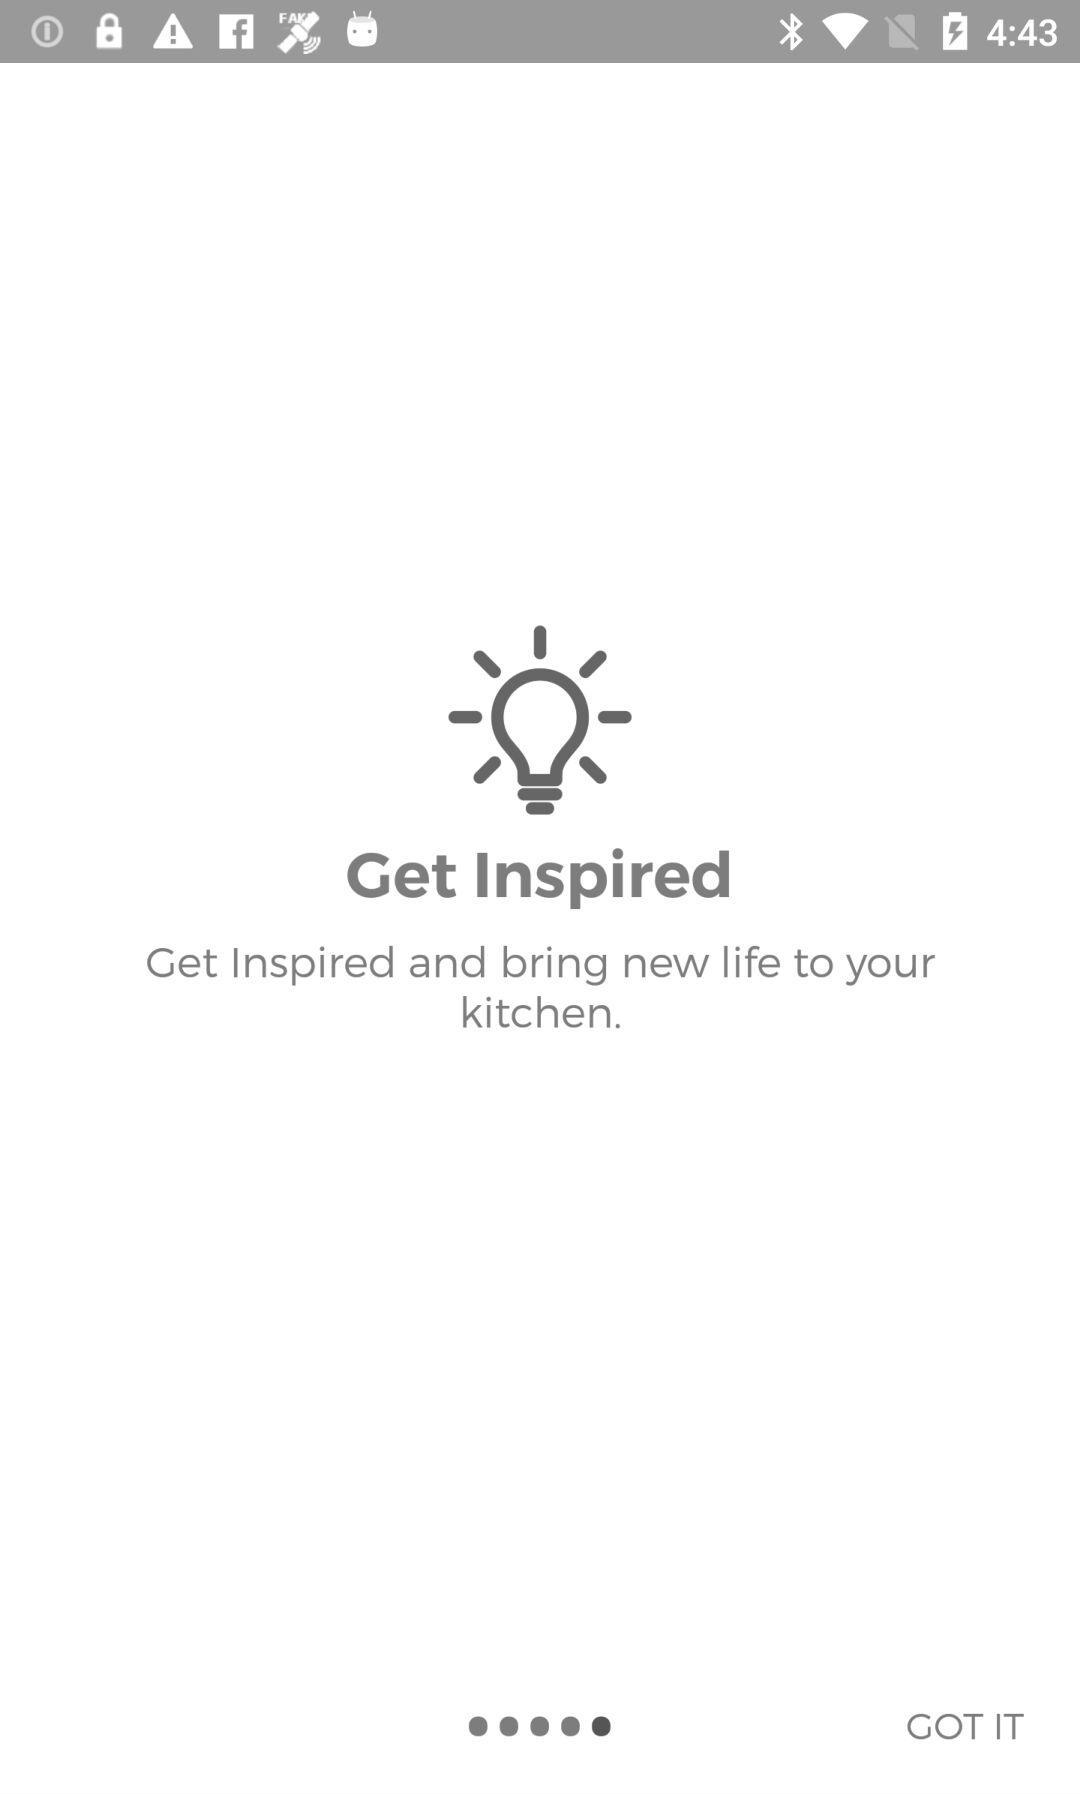Image: (448, 625, 633, 816)
PageIndicator: (468, 1715, 612, 1738)
Text: (147, 944, 937, 1030), (347, 848, 732, 911), (906, 1713, 1025, 1740)
UpperTaskBar: (1, 1, 1080, 64)
